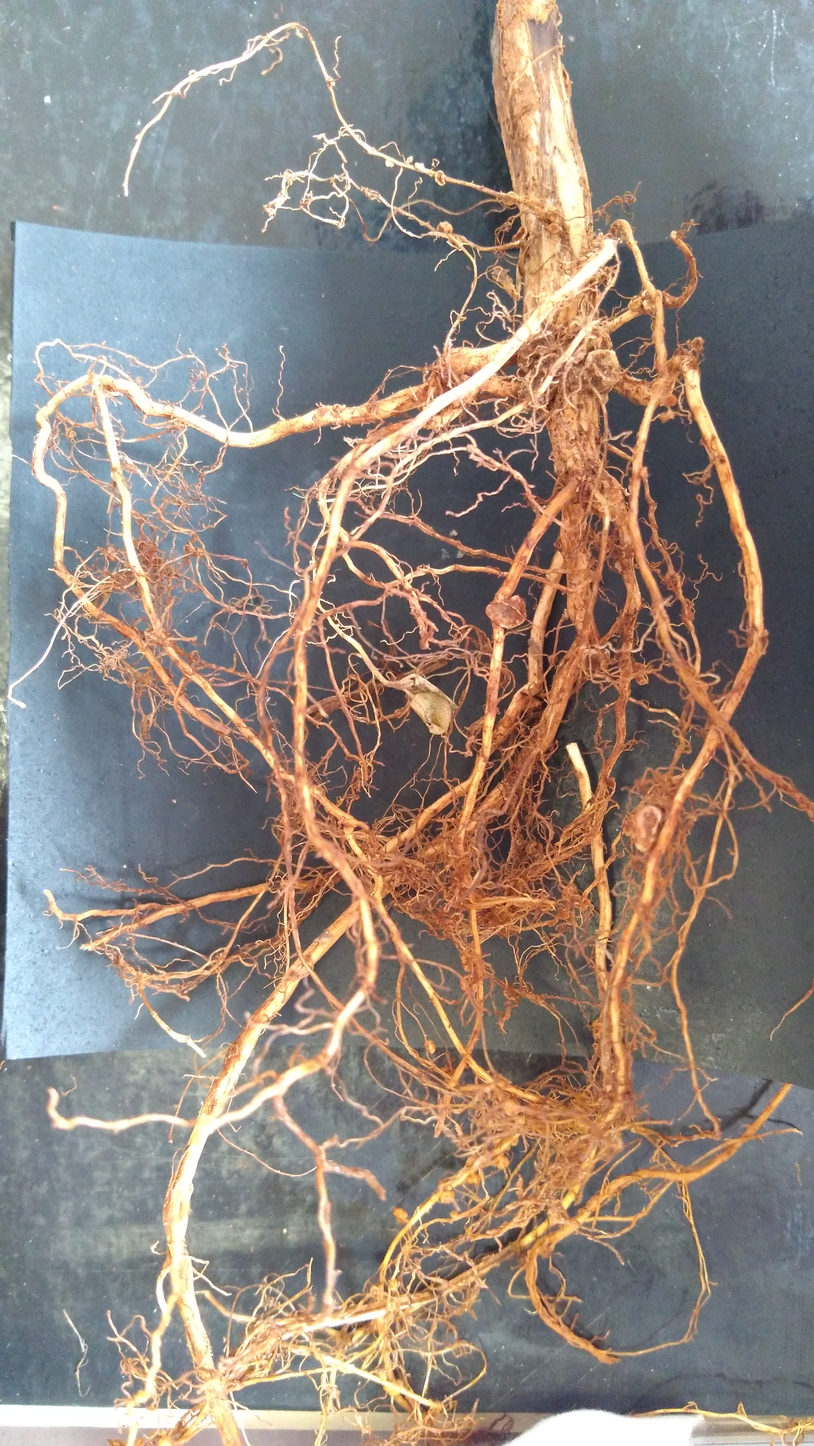nodule: (405, 683, 458, 745), (579, 344, 628, 396), (627, 801, 666, 860), (483, 593, 536, 636), (582, 475, 628, 521), (640, 288, 664, 314), (380, 1377, 405, 1399), (458, 949, 477, 973), (388, 1204, 408, 1225), (664, 572, 684, 591), (493, 1154, 512, 1172), (503, 1099, 521, 1118), (436, 1189, 456, 1206), (436, 219, 454, 236), (423, 1038, 439, 1056), (627, 294, 643, 312), (434, 167, 448, 187), (464, 1173, 484, 1186), (503, 191, 520, 206), (544, 222, 563, 235), (464, 1156, 478, 1168), (413, 161, 426, 172), (383, 158, 395, 169), (447, 1210, 460, 1219)
